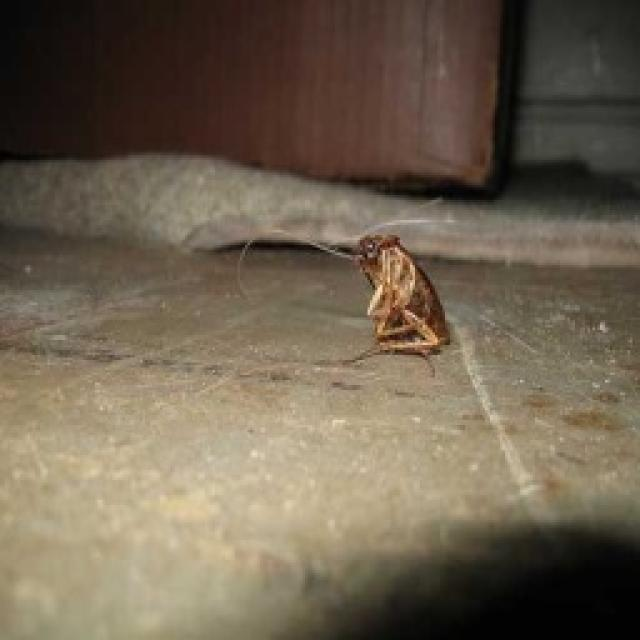cockroach: (351, 231, 453, 358)
